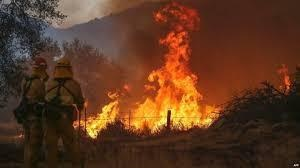fire: (71, 4, 220, 136), (274, 63, 294, 93)
